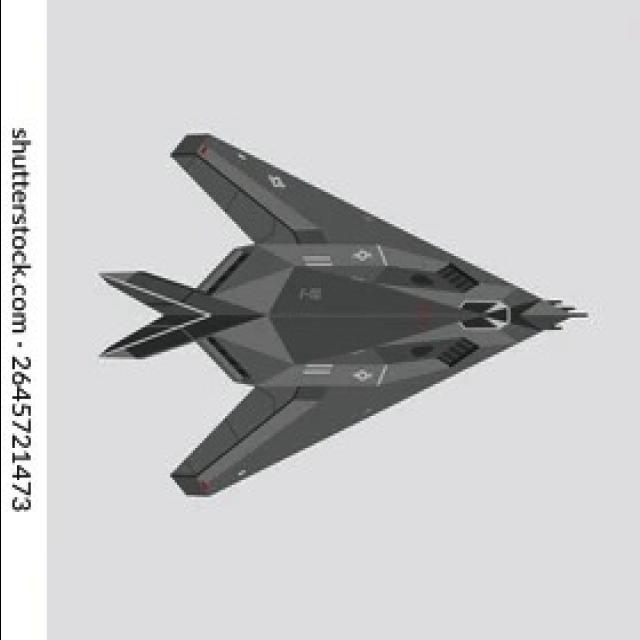F117: (44, 126, 610, 604)
